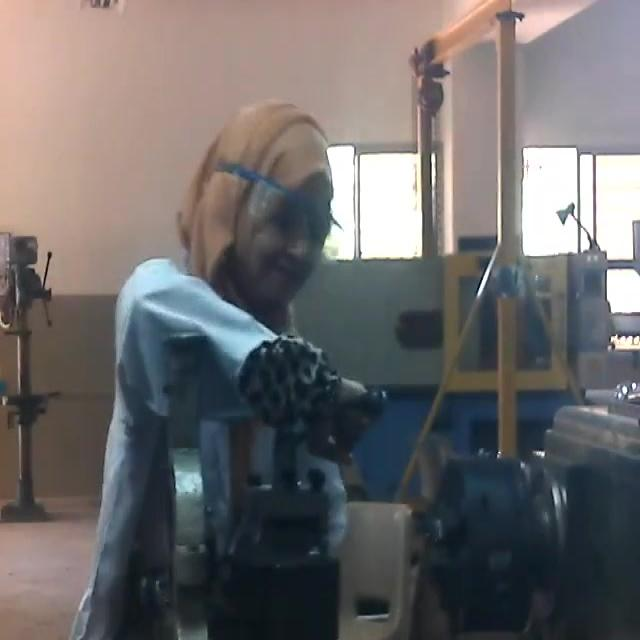googles: (241, 175, 341, 257)
labcoat: (112, 266, 349, 640)
